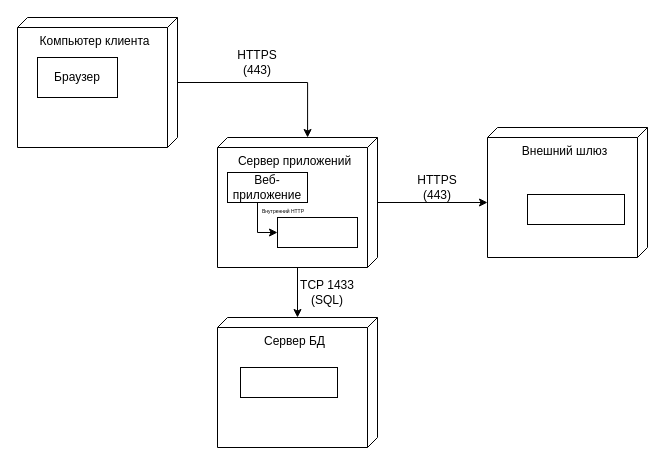
Image size: 665x465. Some labels were removed from this diagram. Here are the shapes that lost their labels. From the top down, the centre of each, then its label:
At [575,209]: "Платежная система".
At [317,232]: "REST API".
At [289,382]: "MS SQL Server".
